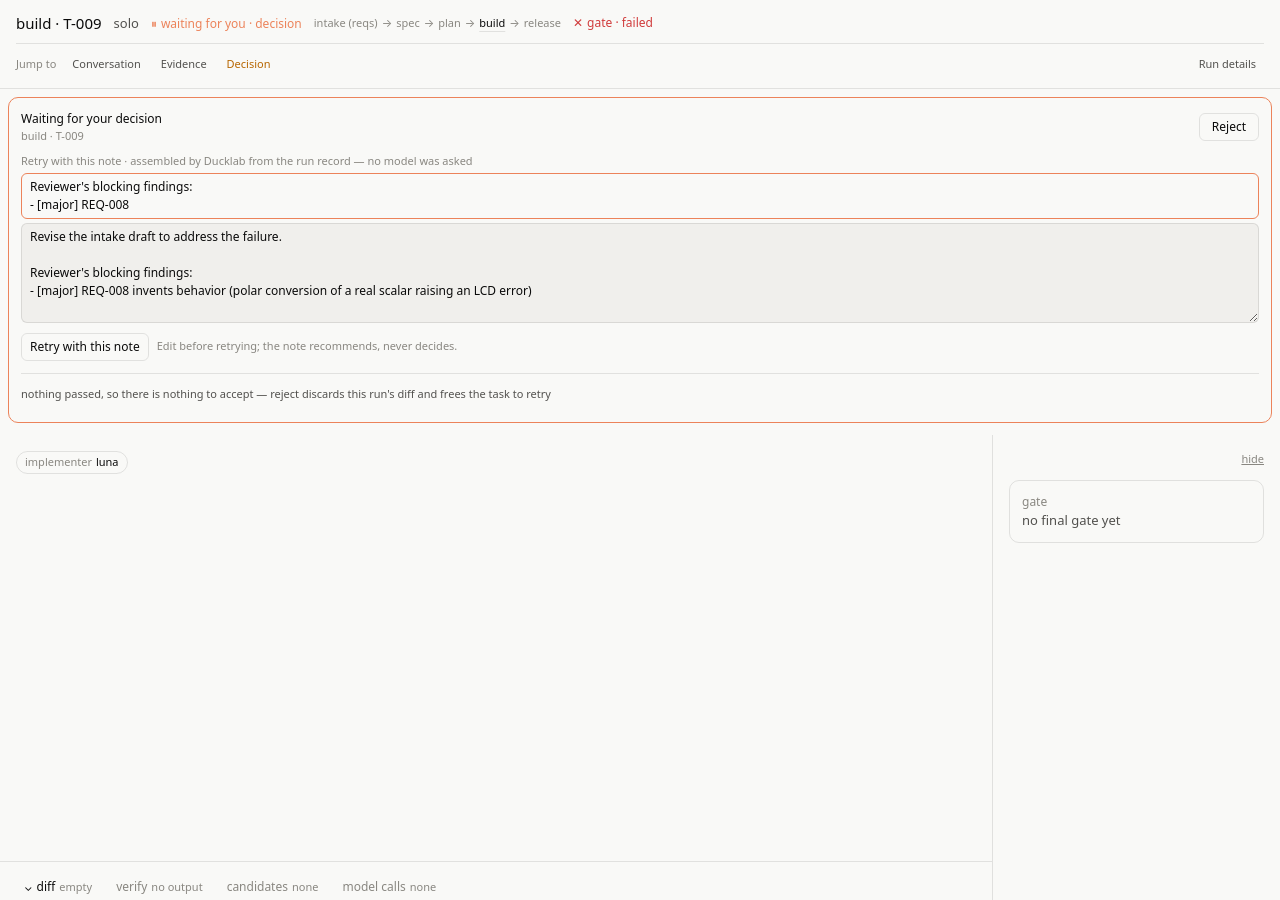
Test case: RunView — Retry with this note goes through the run's own door › shows the engine's refusal instead of a silent failed run
Click the button "Retry with this note" at (85, 346), box [21,332,149,360]
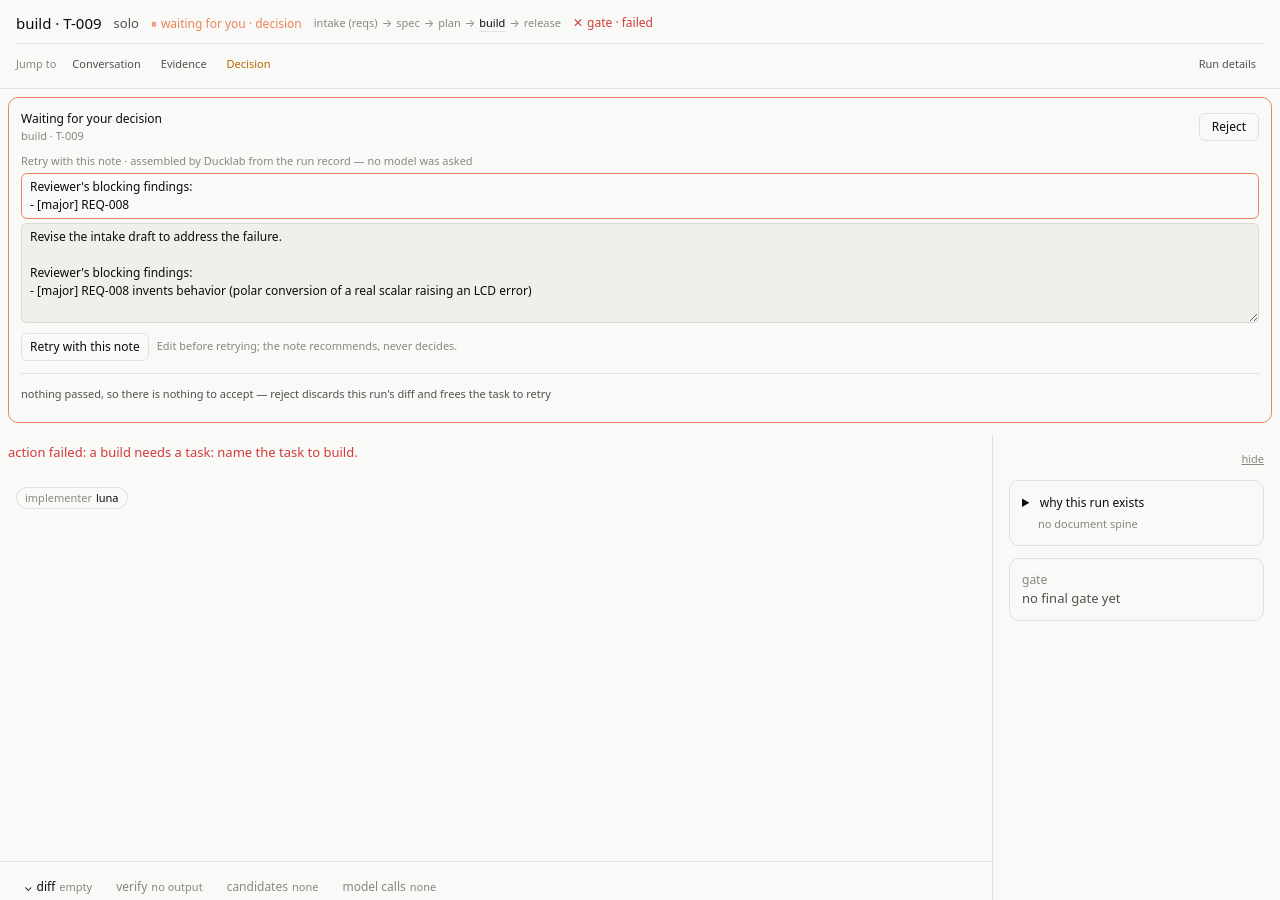
Expected: the text "action failed: a build needs a task: name the task to build." is shown, [8,443,358,461]
